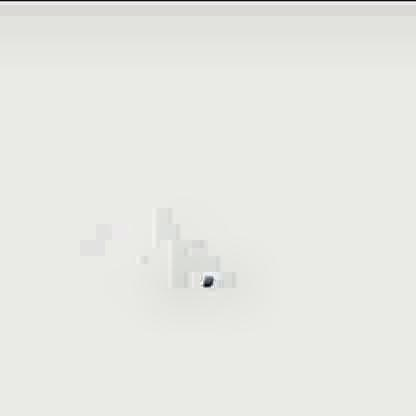golfball: (199, 272, 215, 288)
